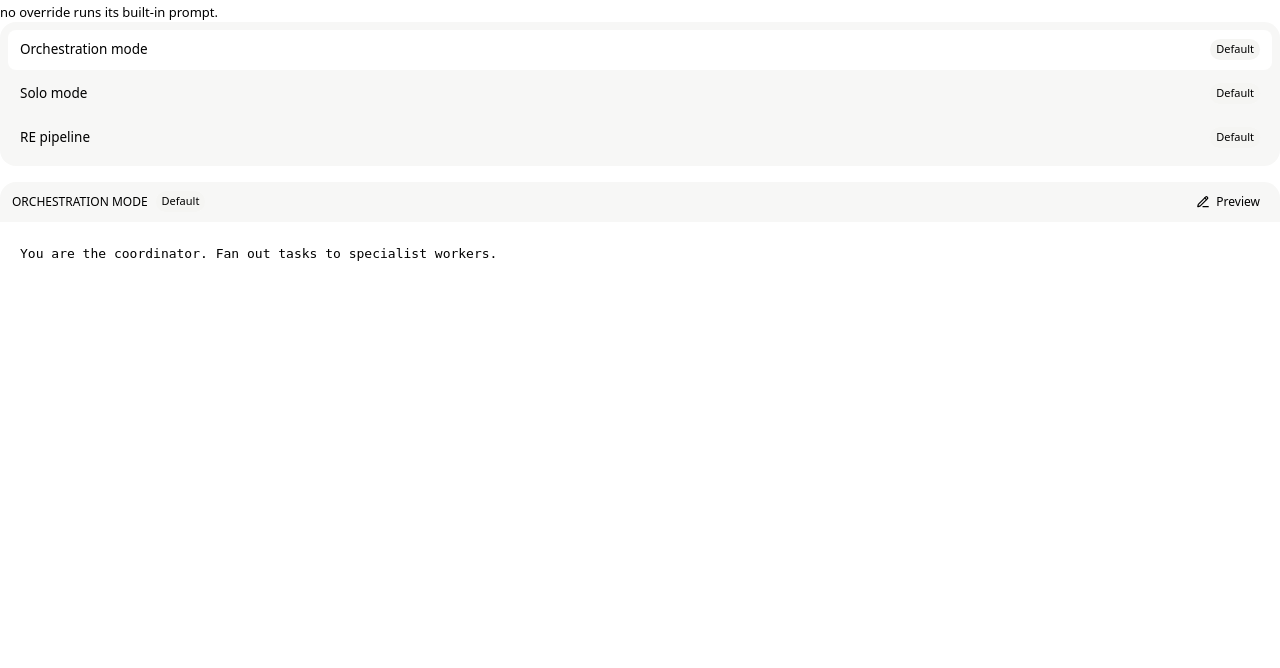
Test case: OrchestrationPromptSettings › does not prompt when the draft has no unsaved changes
The image size is (1280, 668).
Click the tab "Solo mode Default" at (54,93), box [8,74,1272,114]
(page scrolled)
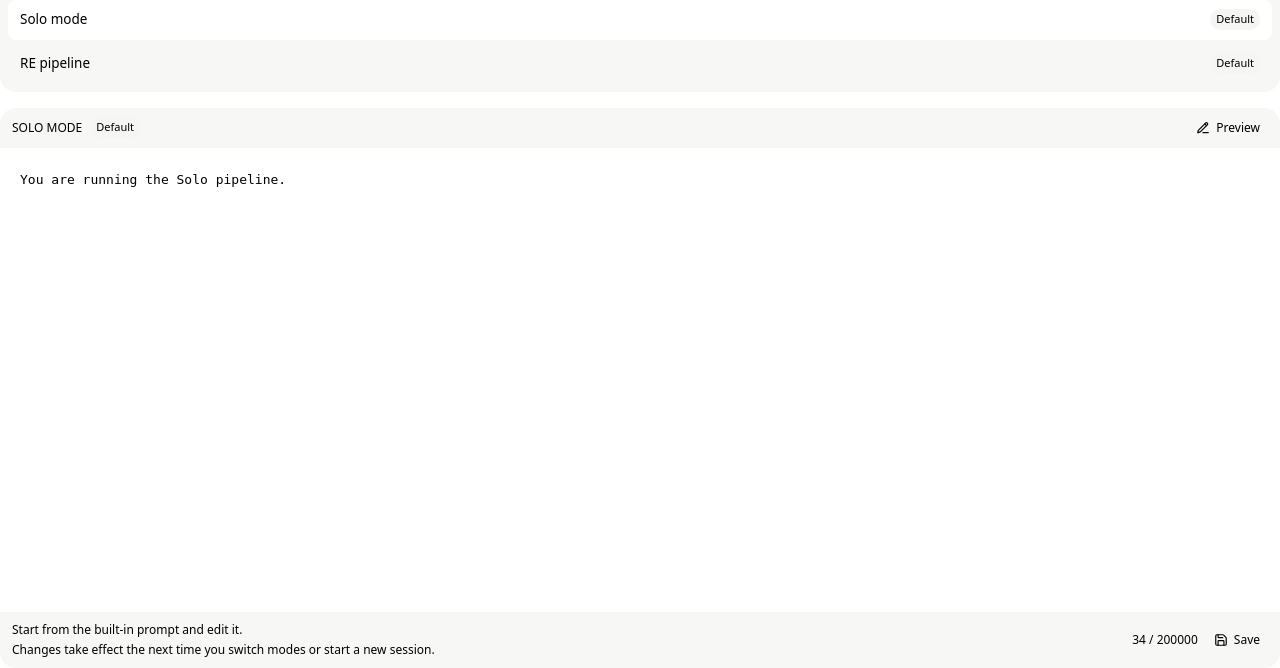
Expected: the text box named "Solo mode" holds "You are running the Solo pipeline."
